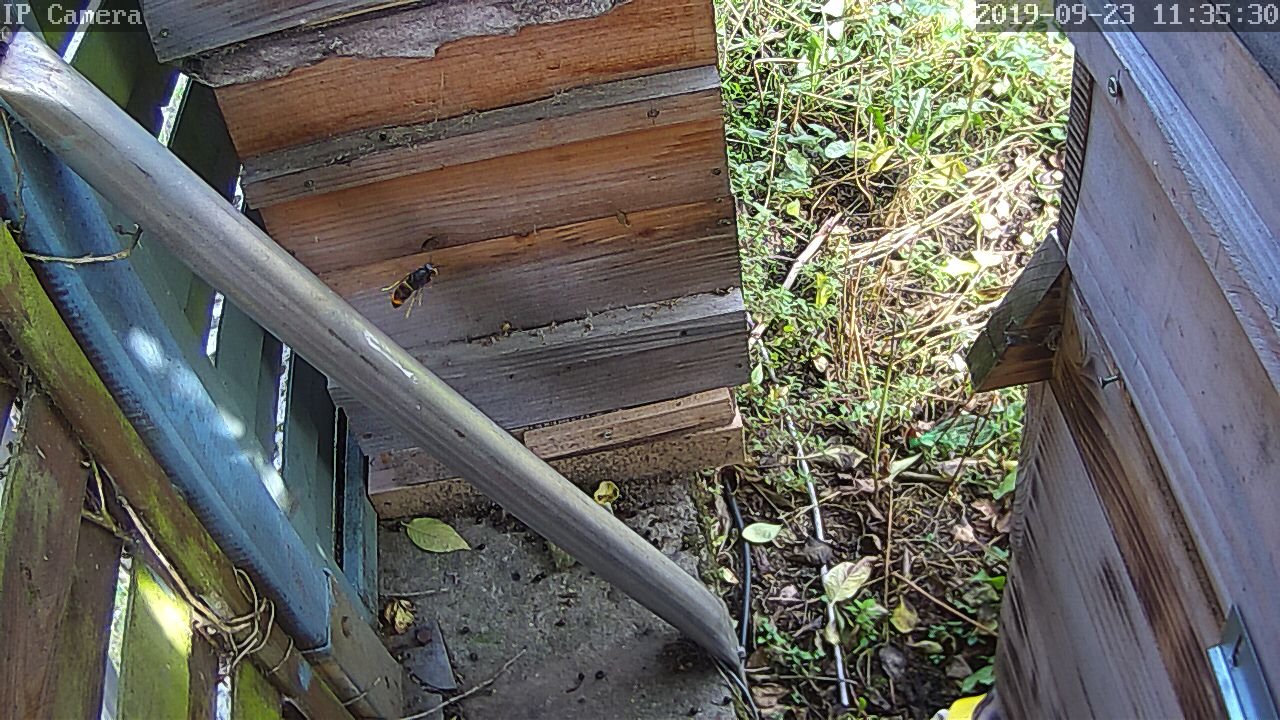hornet: (386, 255, 445, 319)
